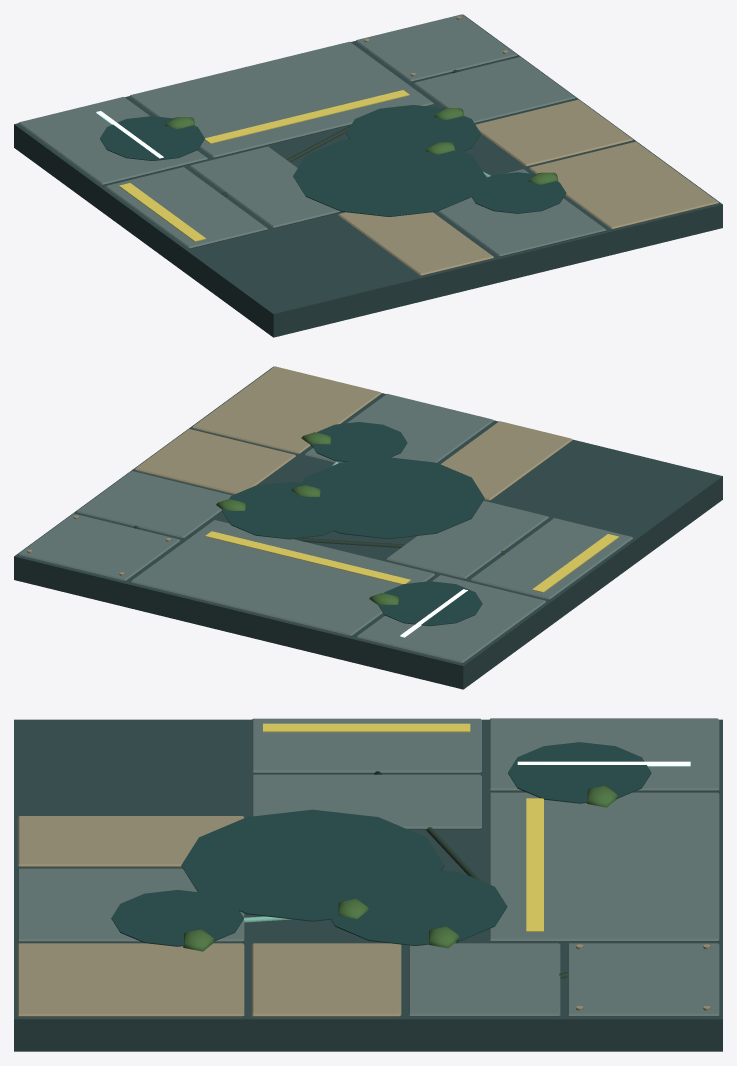
File: floor_dr_broken.glb
The picture shows the model from 3 angles, top to bottom: view 1: azimuth 30°, elevation 25°; view 2: azimuth 150°, elevation 25°; view 3: azimuth 270°, elevation 25°; orthographic projection. The views are drawn at different scales.
Visible parts, largest first — view 1: floor_dr_broken; view 2: floor_dr_broken; view 3: floor_dr_broken.
Part boxes in pixels (bbox=[...]): floor_dr_broken: bbox=[14, 14, 722, 337]; floor_dr_broken: bbox=[14, 366, 722, 689]; floor_dr_broken: bbox=[14, 718, 722, 1051].
Bounding box in the file's own units: 4 × 0.27 × 4.
